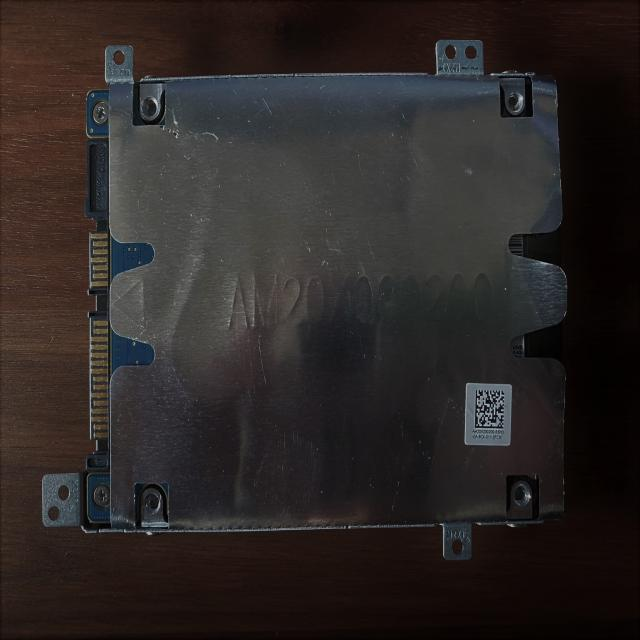PhillipsScrewHead: (91, 100, 110, 126), (92, 484, 111, 510)
